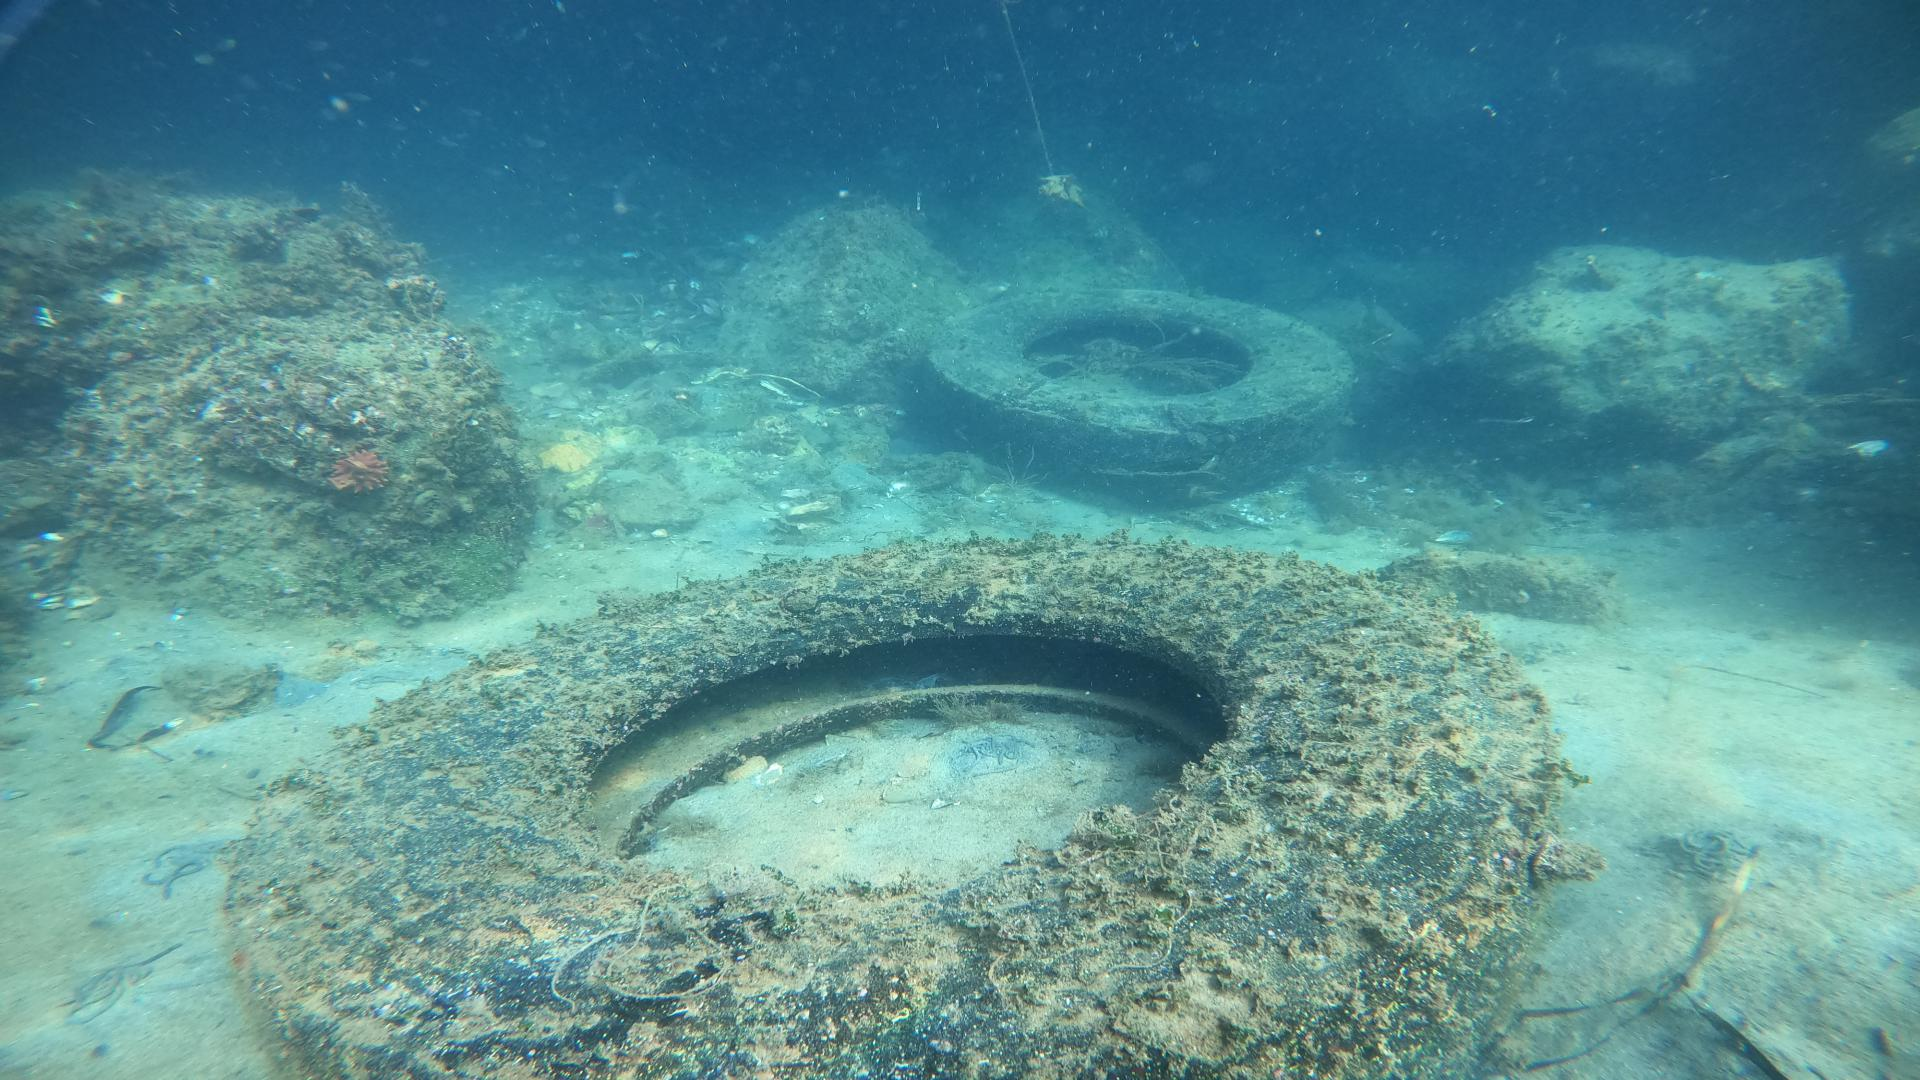tire: (237, 538, 1556, 1080), (916, 286, 1358, 508)
